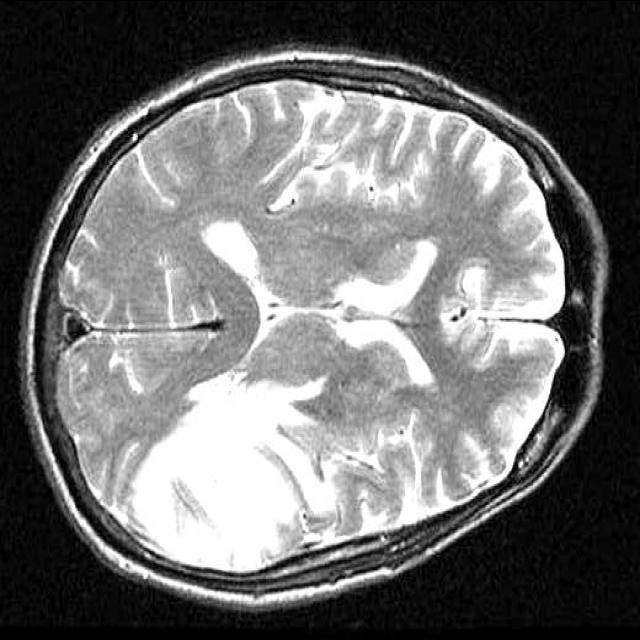tumor: (102, 378, 320, 573)
